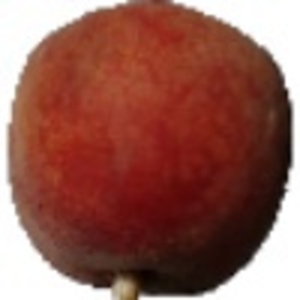pêssego: (5, 1, 295, 300)
